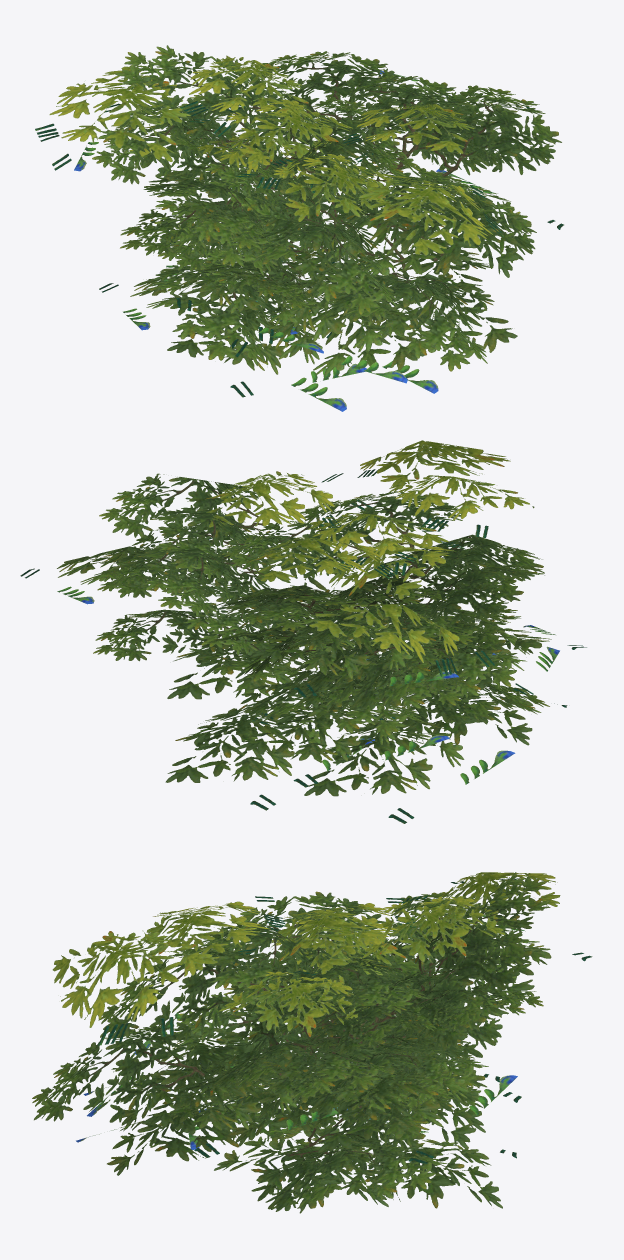
The model's file is xl_huacao_1.FBX.
The picture shows the model from 3 angles, top to bottom: view 1: azimuth 30°, elevation 25°; view 2: azimuth 150°, elevation 25°; view 3: azimuth 270°, elevation 25°; orthographic projection. The views are drawn at different scales.
Parts seen in each view (by area): view 1: xl_huacao_1; view 2: xl_huacao_1; view 3: xl_huacao_1.
Boxes of the visible parts, bbox=[...] form: xl_huacao_1: bbox=[35, 45, 563, 411]; xl_huacao_1: bbox=[20, 440, 586, 823]; xl_huacao_1: bbox=[32, 872, 592, 1213].
Size of the model in its own units: 6008 by 2719 by 5992.
